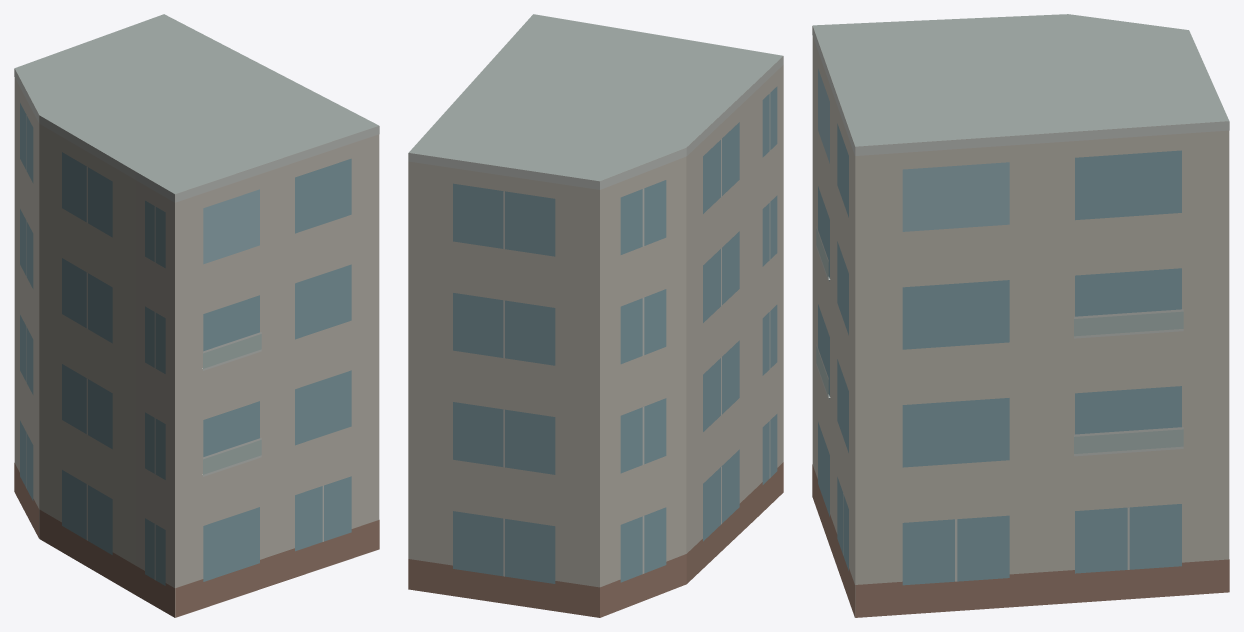
File: residential-74d53637-6f14-4b9e-ab77-53d80c505d39.glb
3 views of the same model, side by side, from view 1: azimuth 30°, elevation 25°; view 2: azimuth 150°, elevation 25°; view 3: azimuth 270°, elevation 25° (orthographic). The views are drawn at different scales.
Parts seen in each view (by area): view 1: residential-74d53637-6f14-4b9e-ab77-53d80c505d39.tmp; view 2: residential-74d53637-6f14-4b9e-ab77-53d80c505d39.tmp; view 3: residential-74d53637-6f14-4b9e-ab77-53d80c505d39.tmp.
Boxes of the visible parts, x1,y1,x2,y2 form: residential-74d53637-6f14-4b9e-ab77-53d80c505d39.tmp: [14, 14, 379, 617]; residential-74d53637-6f14-4b9e-ab77-53d80c505d39.tmp: [408, 14, 783, 617]; residential-74d53637-6f14-4b9e-ab77-53d80c505d39.tmp: [812, 14, 1229, 617].
Size of the model in its own units: 7.38 by 12.2 by 9.8.
